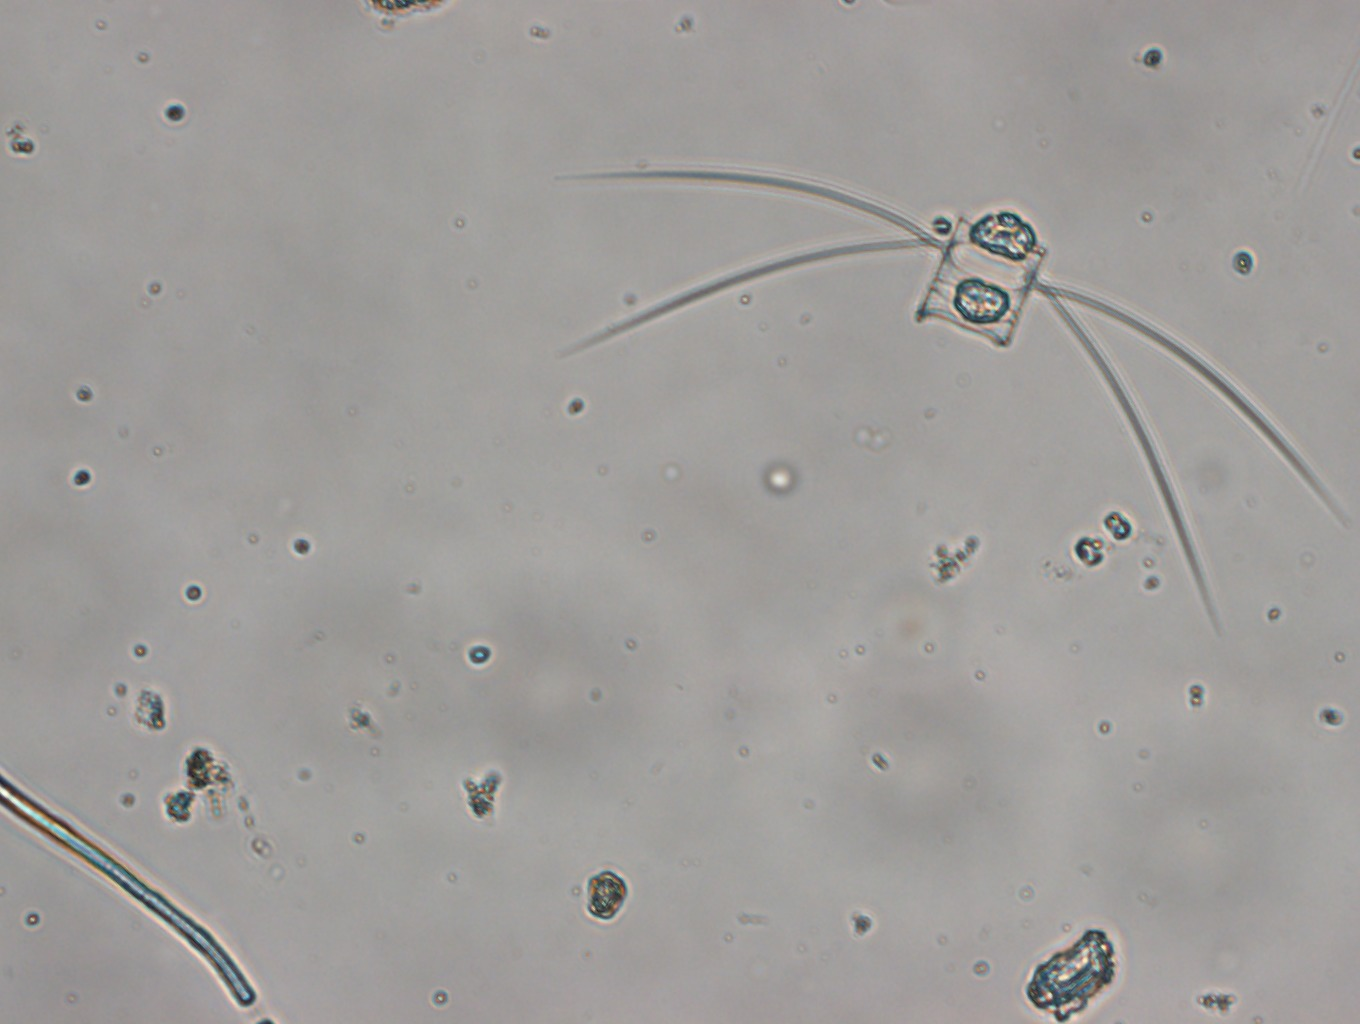chaetoceros: (548, 168, 1349, 631)
